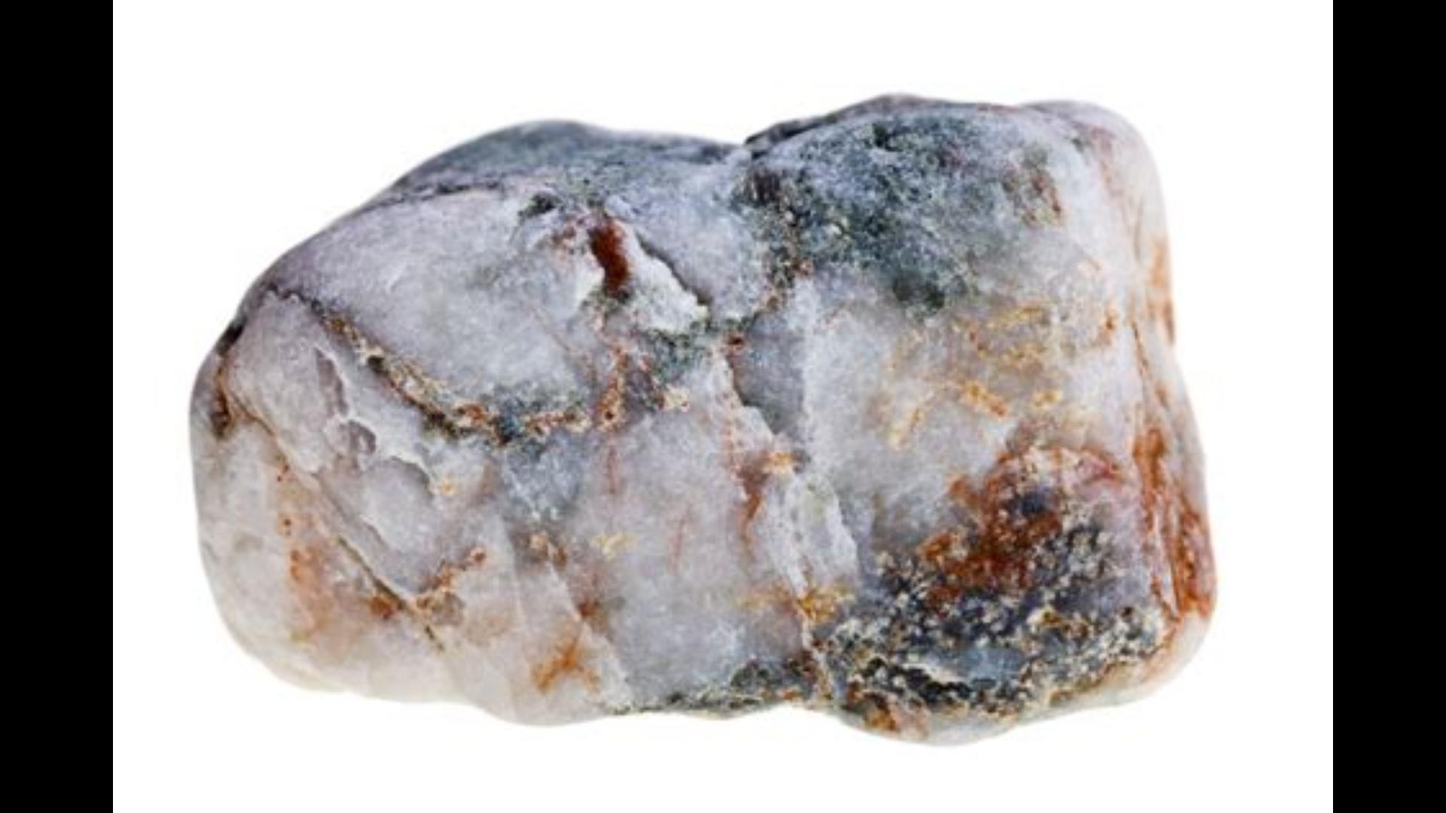rock: (198, 100, 1212, 728)
